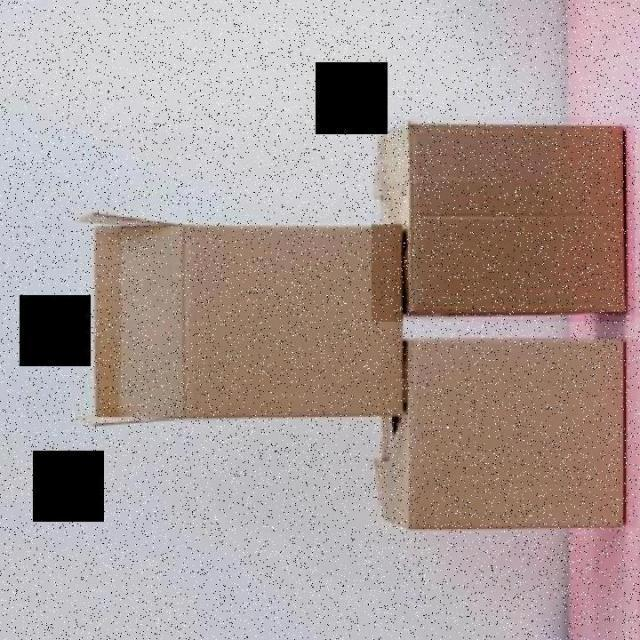box: (66, 206, 409, 434), (372, 117, 634, 323), (378, 328, 640, 534)
